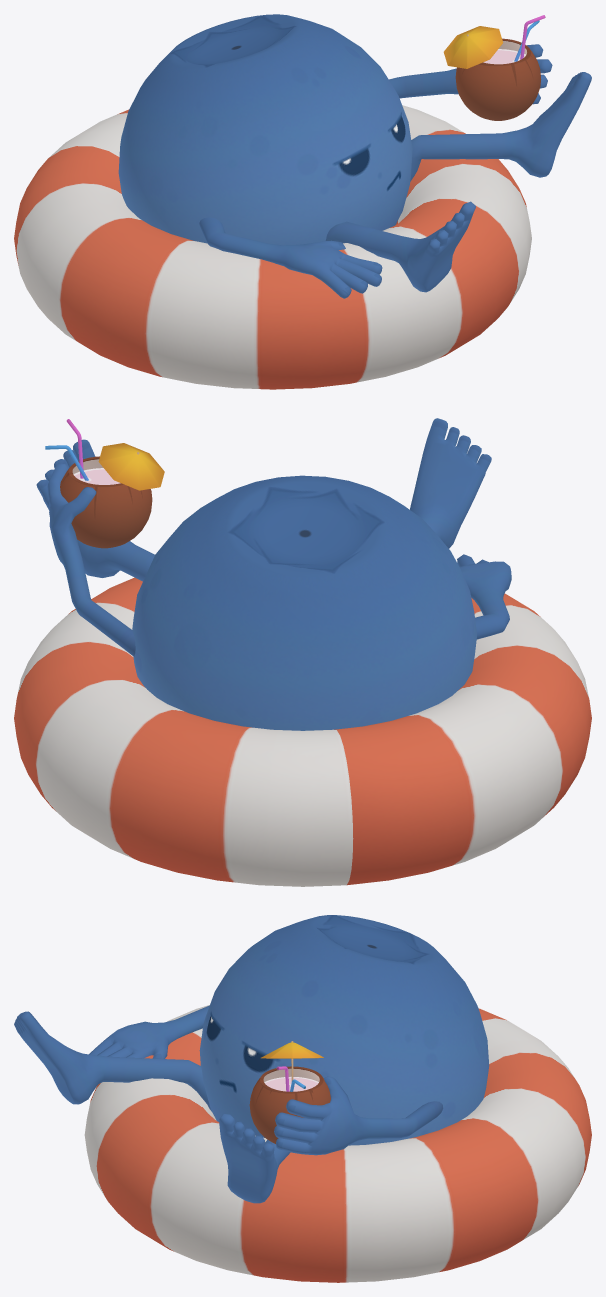
Rendered from blueberry_on_vacation.glb.
The picture shows the model from 3 angles, top to bottom: view 1: azimuth 30°, elevation 25°; view 2: azimuth 150°, elevation 25°; view 3: azimuth 270°, elevation 25°; orthographic projection. The views are drawn at different scales.
Visible parts, largest first — view 1: Circle, Blueberry.000, Sphere, Circle.001; view 2: Circle, Blueberry.000, Sphere, Circle.001; view 3: Circle, Blueberry.000, Sphere, Circle.001.
Boxes of the visible parts, bbox=[...] form: Circle: bbox=[14, 105, 531, 389]; Blueberry.000: bbox=[118, 14, 591, 298]; Sphere: bbox=[455, 38, 541, 120]; Circle.001: bbox=[443, 26, 503, 68]; Circle: bbox=[14, 577, 591, 886]; Blueberry.000: bbox=[36, 418, 511, 730]; Sphere: bbox=[60, 456, 152, 548]; Circle.001: bbox=[98, 443, 164, 490]; Circle: bbox=[84, 1005, 591, 1282]; Blueberry.000: bbox=[14, 915, 489, 1203]; Sphere: bbox=[249, 1066, 330, 1143]; Circle.001: bbox=[261, 1041, 323, 1081].
Size of what is drawn, in the model's own units: 8.92 by 4.62 by 9.16.
Materials: 1 (1 with a texture image).
